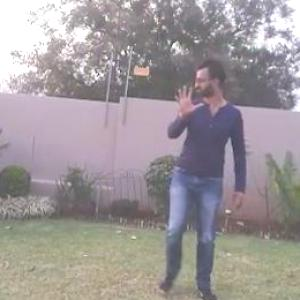follow_hand: (171, 78, 205, 118)
